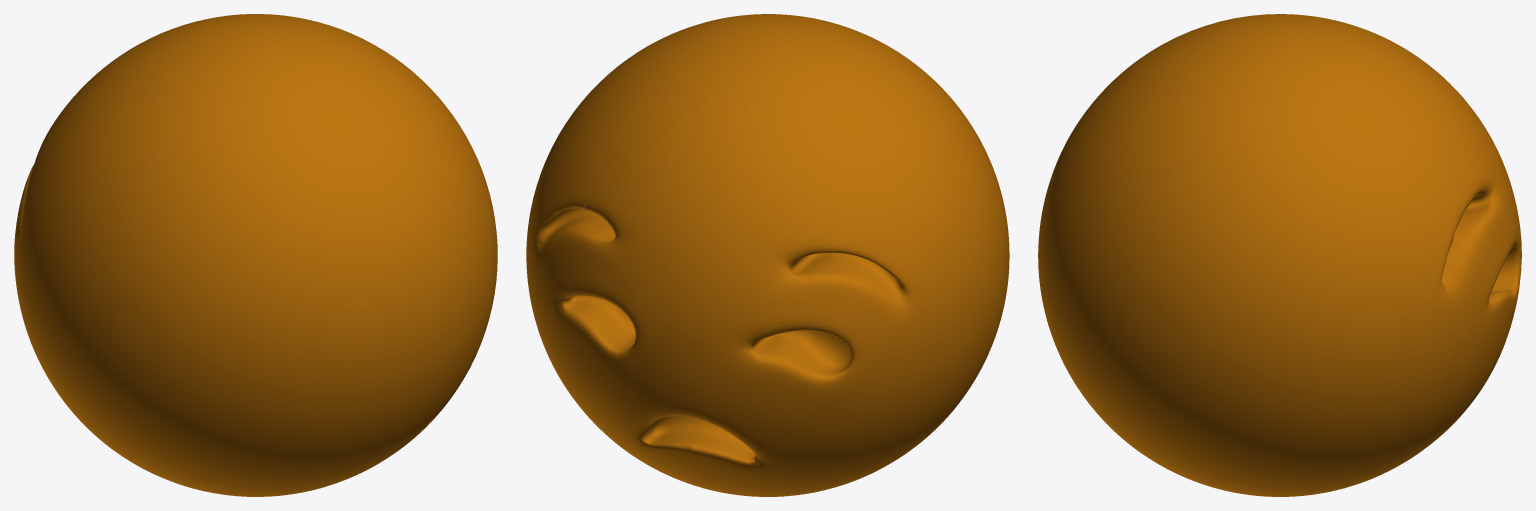
The model's file is dissapointed 3DS.fbx.
The picture shows the model from 3 angles, left to right: view 1: azimuth 30°, elevation 25°; view 2: azimuth 150°, elevation 25°; view 3: azimuth 270°, elevation 25°; orthographic projection.
Visible parts, largest first — view 1: ZBrush_def; view 2: ZBrush_def; view 3: ZBrush_def.
Part boxes in pixels (bbox=[...]): ZBrush_def: bbox=[14, 14, 497, 496]; ZBrush_def: bbox=[526, 14, 1009, 496]; ZBrush_def: bbox=[1038, 14, 1521, 496].
Bounding box in the file's own units: 48.49 × 48.47 × 48.55.
